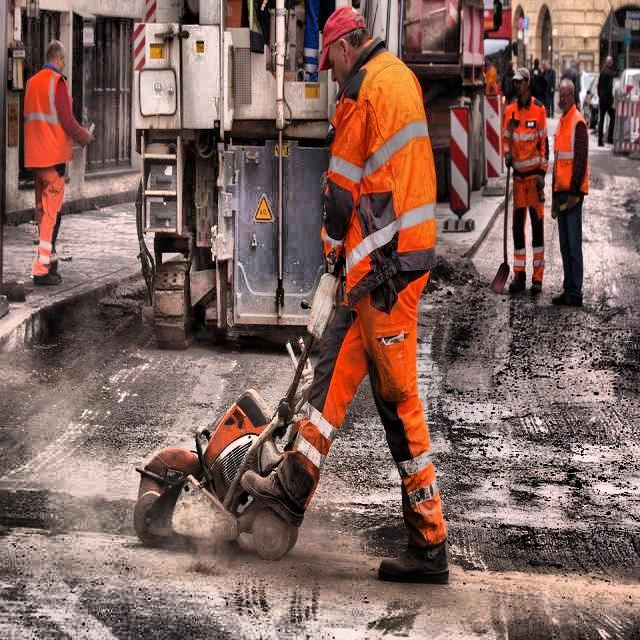person: (288, 10, 464, 566), (20, 44, 84, 294), (498, 60, 554, 298), (550, 66, 594, 304)
